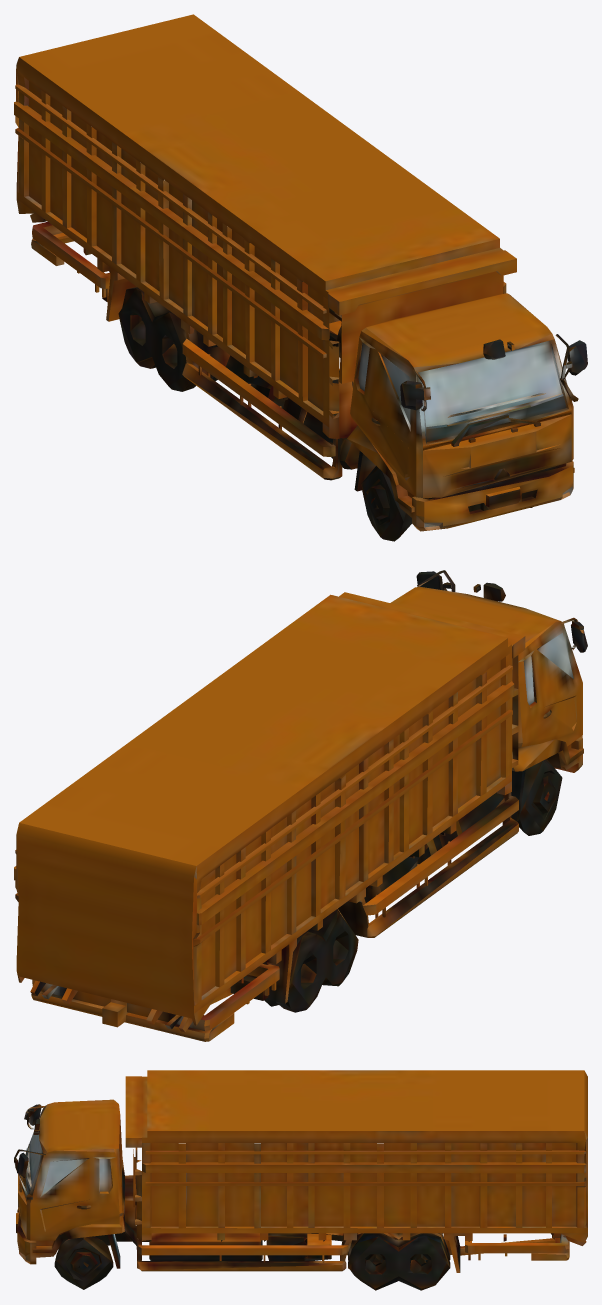
Rendered from truck_fuso_lod2.glb.
The picture shows the model from 3 angles, top to bottom: view 1: azimuth 30°, elevation 25°; view 2: azimuth 150°, elevation 25°; view 3: azimuth 270°, elevation 25°; orthographic projection. The views are drawn at different scales.
Parts seen in each view (by area): view 1: tripo_node_bfed4481; view 2: tripo_node_bfed4481; view 3: tripo_node_bfed4481.
Boxes of the visible parts, x1,y1,x2,y2 form: tripo_node_bfed4481: (14, 14, 587, 541); tripo_node_bfed4481: (14, 570, 587, 1041); tripo_node_bfed4481: (14, 1070, 587, 1290).
Size of the model in its own units: 27.01 by 31.33 by 100.
1 material, 1 textured.
